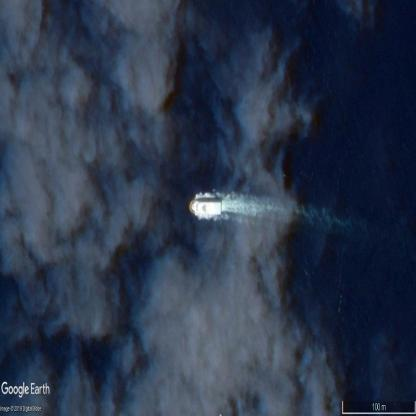ship: (190, 198, 222, 216)
